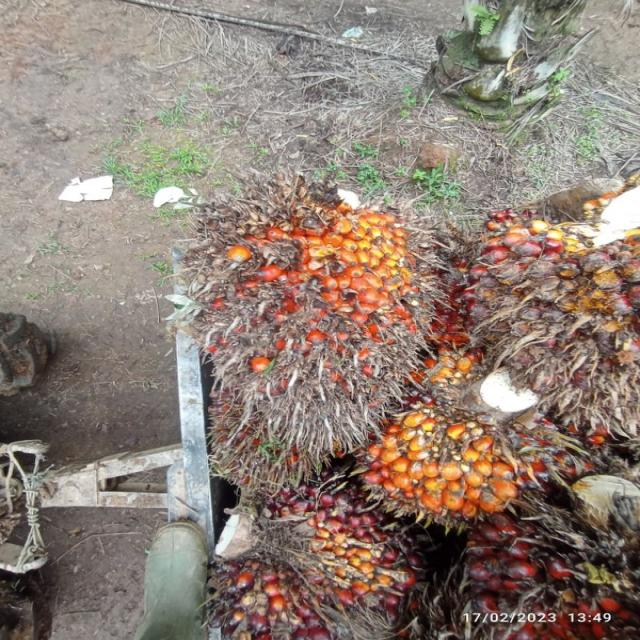fraksi 1: (184, 464, 440, 640)
fraksi 4: (145, 156, 446, 460), (349, 348, 553, 540)
